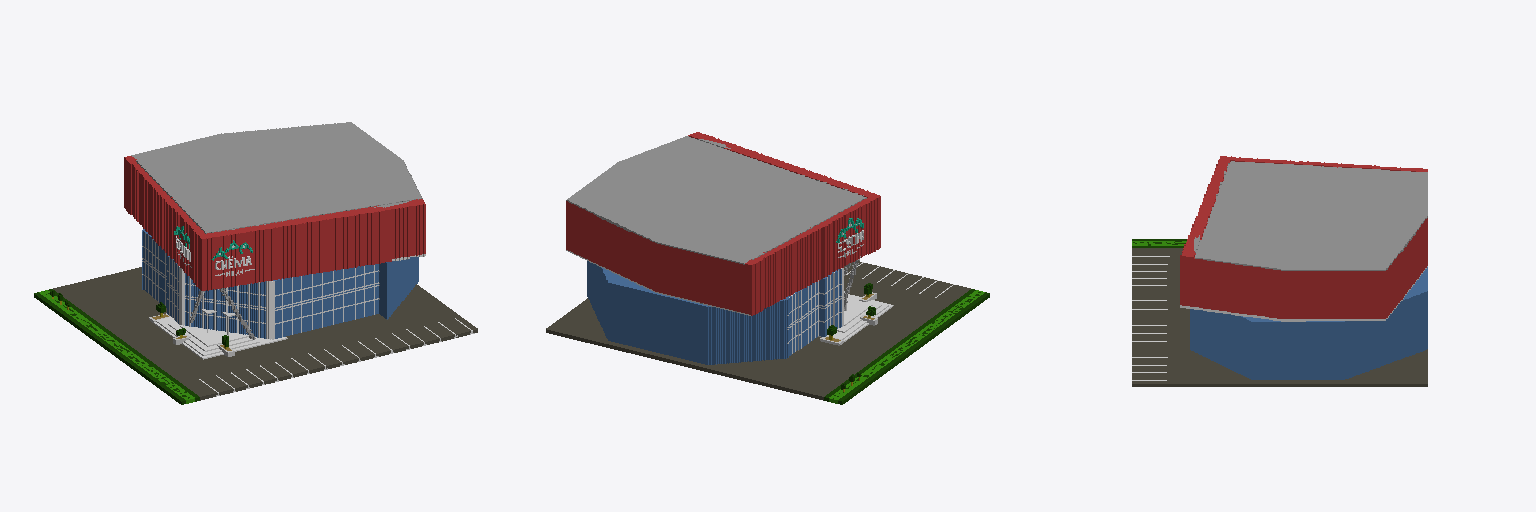
3 views of the same model, side by side, from view 1: azimuth 30°, elevation 25°; view 2: azimuth 150°, elevation 25°; view 3: azimuth 270°, elevation 25° (orthographic).
Visible parts, largest first — view 1: object 1; view 2: object 1; view 3: object 1.
Boxes of the visible parts, x1,y1,x2,y2 form: object 1: [34, 122, 477, 404]; object 1: [546, 132, 989, 404]; object 1: [1132, 156, 1427, 386].
Bounding box in the file's own units: 25.6 × 9.7 × 22.1.
1 materials, 1 textured.